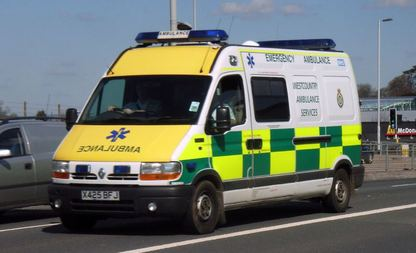ambulance: (46, 15, 366, 234)
